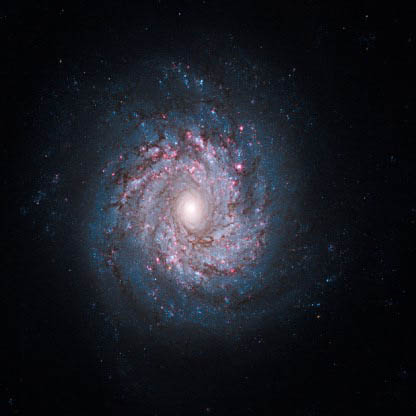NGC 3982: (62, 52, 323, 349)
